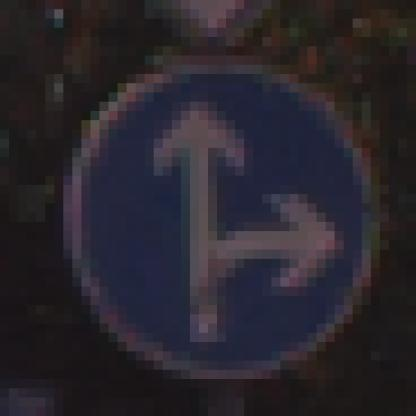Straight or Right: (55, 47, 363, 371)
